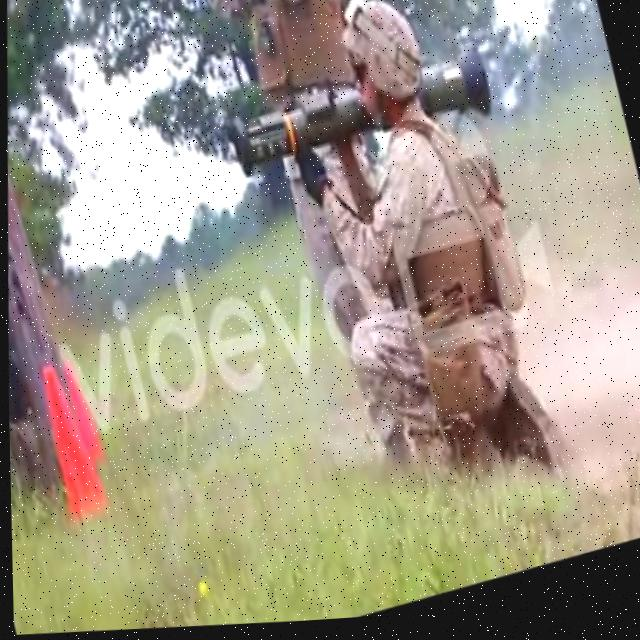rocket: (224, 40, 496, 185)
